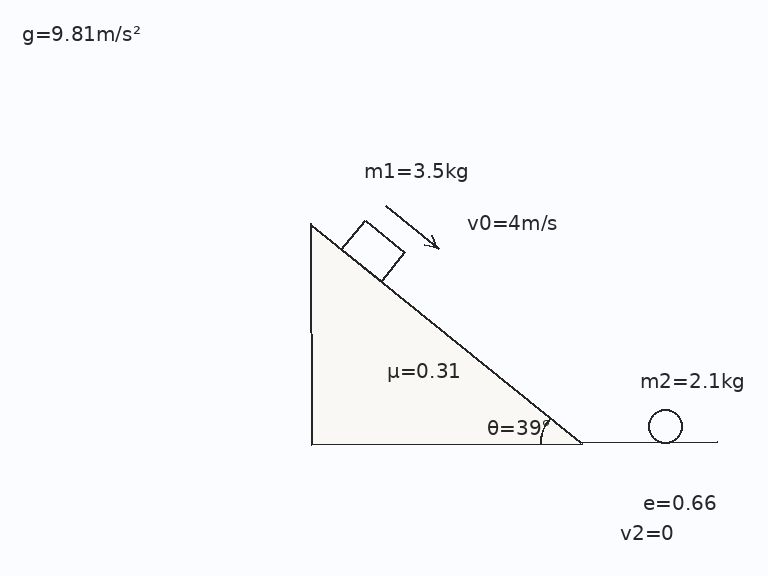ball: (646, 407, 684, 445)
block: (340, 218, 407, 283)
ramp: (309, 222, 583, 445)
